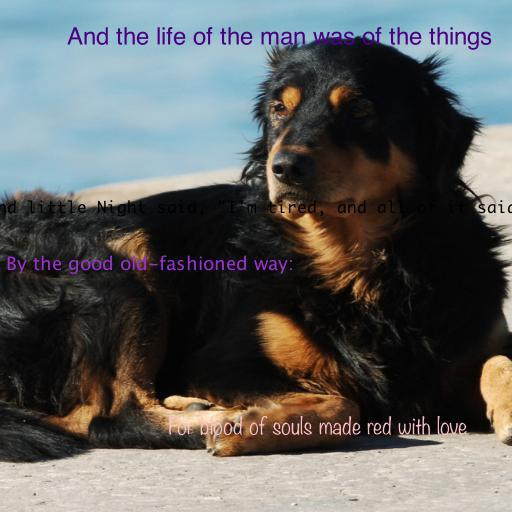Big Caslon: (66, 27, 492, 50)
Lucida Grande: (6, 255, 294, 274)
Monaco: (0, 200, 512, 217)
Noteworthy: (167, 415, 467, 436)
